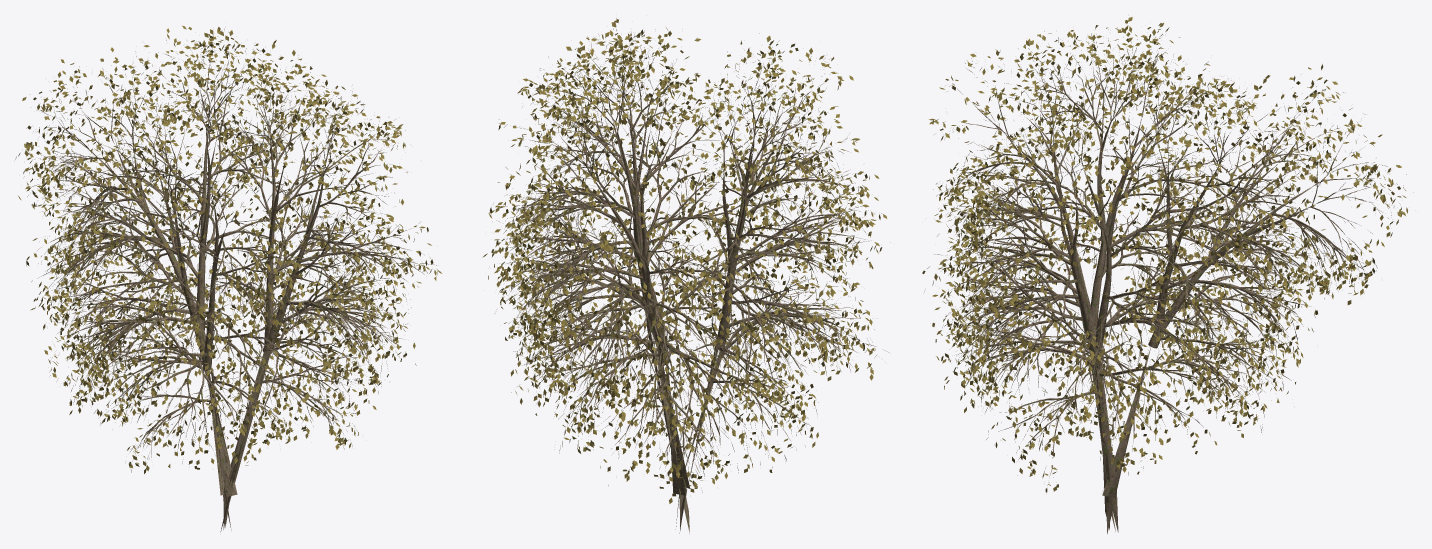
The model's file is tree_blendkit.glb.
3 views of the same model, side by side, from view 1: azimuth 30°, elevation 25°; view 2: azimuth 150°, elevation 25°; view 3: azimuth 270°, elevation 25° (orthographic). The views are drawn at different scales.
Visible parts, largest first — view 1: leaves.001, tree.001, tree.003; view 2: leaves.001, tree.001, tree.003; view 3: leaves.001, tree.001, tree.003.
Part boxes in pixels (<box>): leaves.001: <box>18,25,442,473</box>; tree.001: <box>15,29,436,467</box>; tree.003: <box>205,353,270,531</box>; leaves.001: <box>482,19,887,503</box>; tree.001: <box>488,18,890,496</box>; tree.003: <box>647,332,725,533</box>; leaves.001: <box>922,17,1407,492</box>; tree.001: <box>924,23,1413,492</box>; tree.003: <box>1090,347,1150,533</box>.
Bounding box in the file's own units: 7.03 × 9.15 × 8.5.
3 materials, 3 textured.
